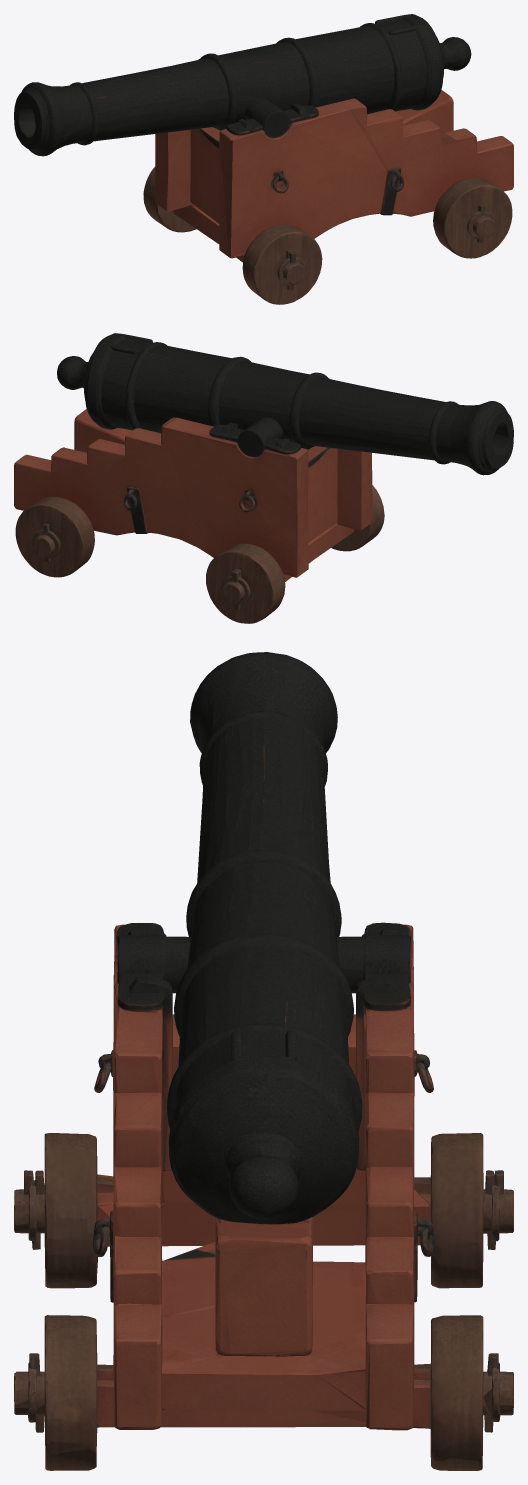
Rendered from gun_light.glb.
3 renders of one model, top to bottom at view 1: azimuth 30°, elevation 25°; view 2: azimuth 150°, elevation 25°; view 3: azimuth 270°, elevation 25°, orthographic. The views are drawn at different scales.
Visible parts, largest first — view 1: output_unwrapped; view 2: output_unwrapped; view 3: output_unwrapped.
Boxes of the visible parts, bbox=[...] form: output_unwrapped: bbox=[14, 14, 513, 304]; output_unwrapped: bbox=[14, 333, 513, 623]; output_unwrapped: bbox=[14, 652, 513, 1470].
Bounding box in the file's own units: 1.9 × 0.9069 × 0.9263.
1 material, 1 textured.
